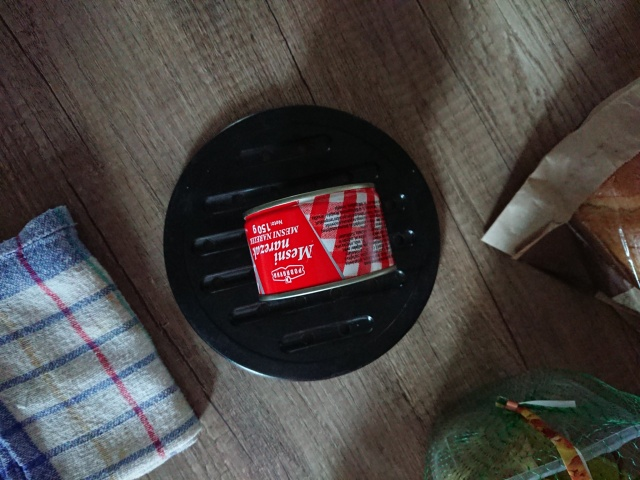Podravka Luncheon Meat 150g: (239, 179, 401, 305)
